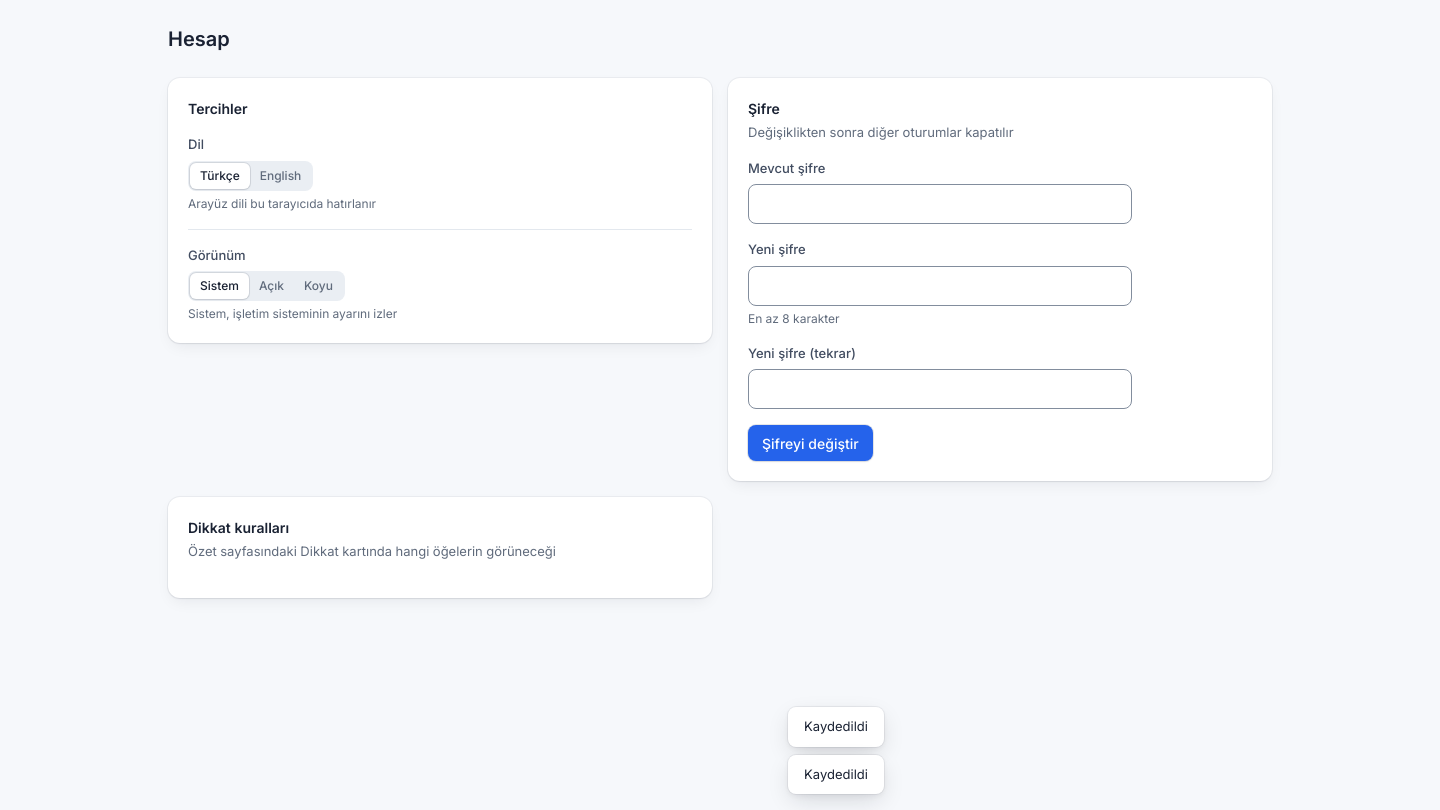
Test case: AccountPage › does not send the change when the two new passwords differ
Type "oldpassword" into the password field labelled "Mevcut şifre".
click(940, 204); type("oldpassword")  # box [748,184,1132,224]
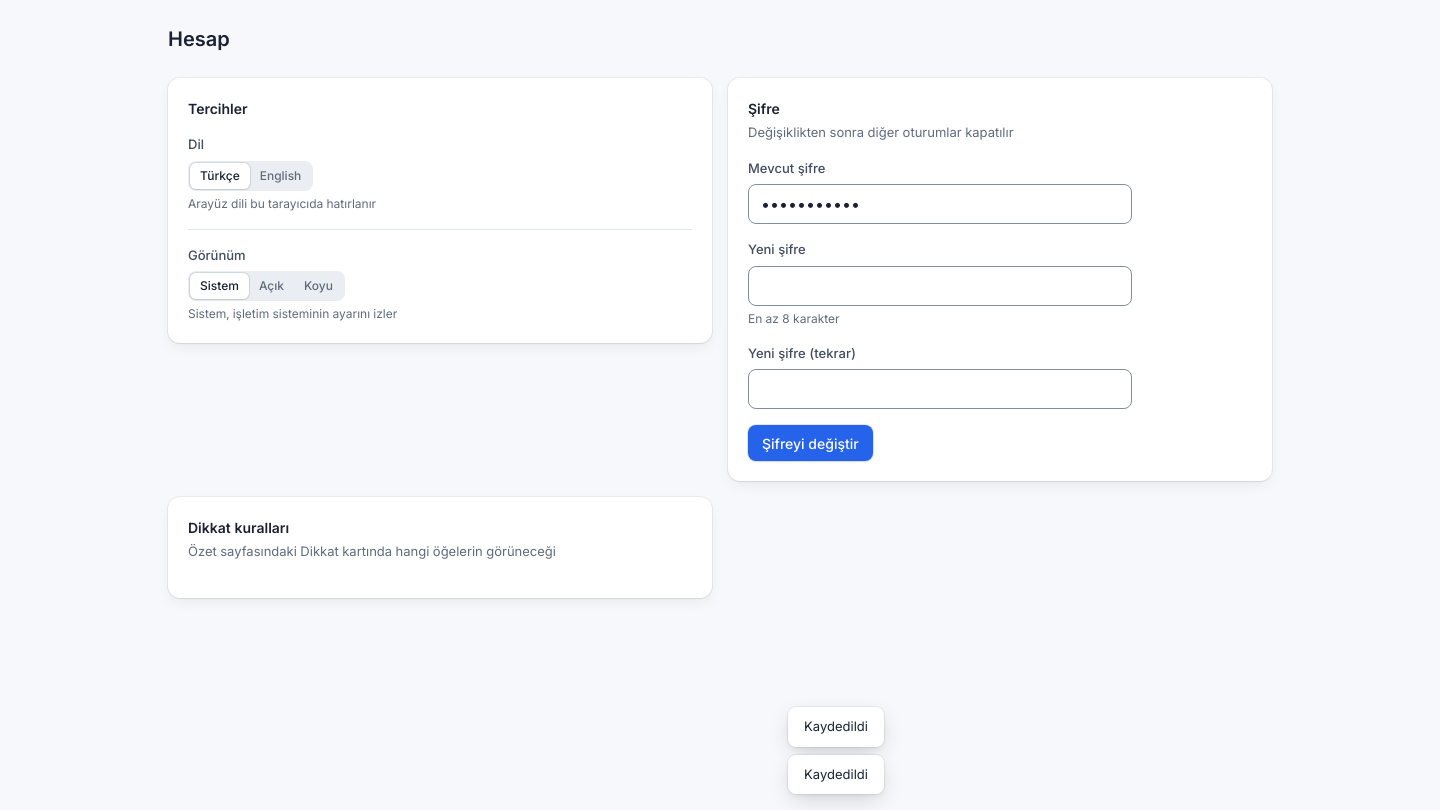
Type "newpassword" into the password field labelled "Yeni şifre".
click(940, 286); type("newpassword")  # box [748,266,1132,306]
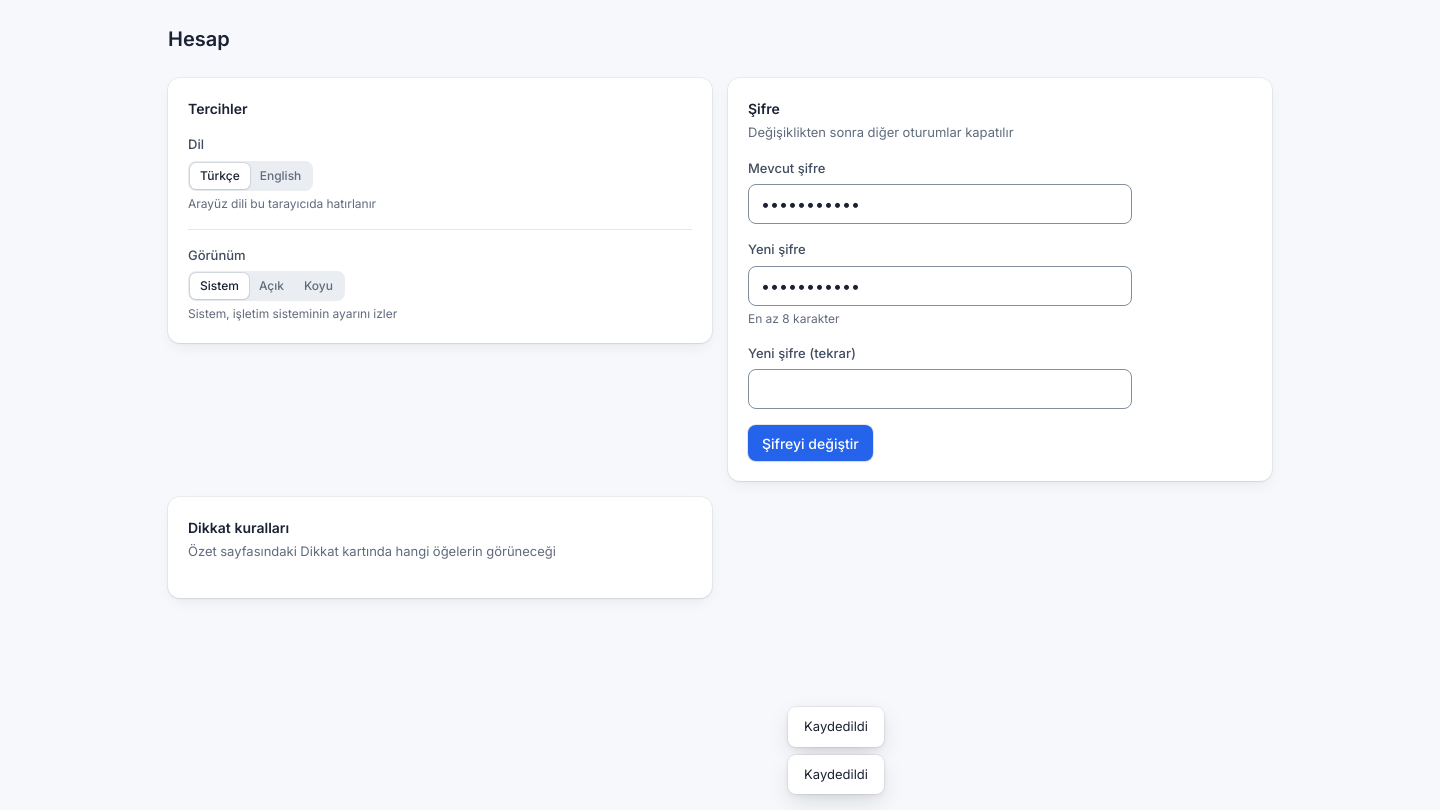
Type "newpasswrod" into the password field labelled "Yeni şifre (tekrar)".
click(940, 389); type("newpasswrod")  # box [748,369,1132,409]
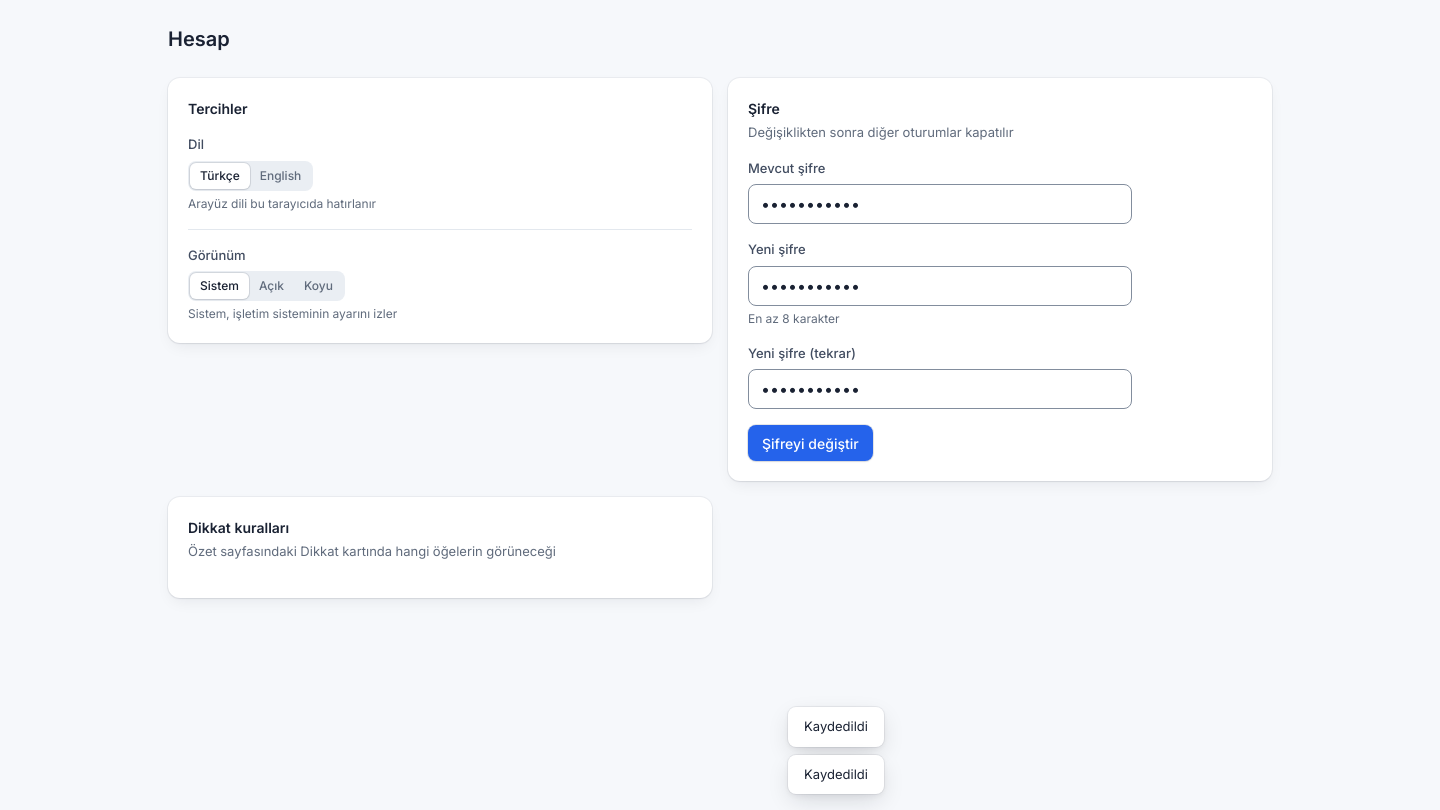
Click the button "Şifreyi değiştir".
click(810, 443)  # box [748,425,873,461]
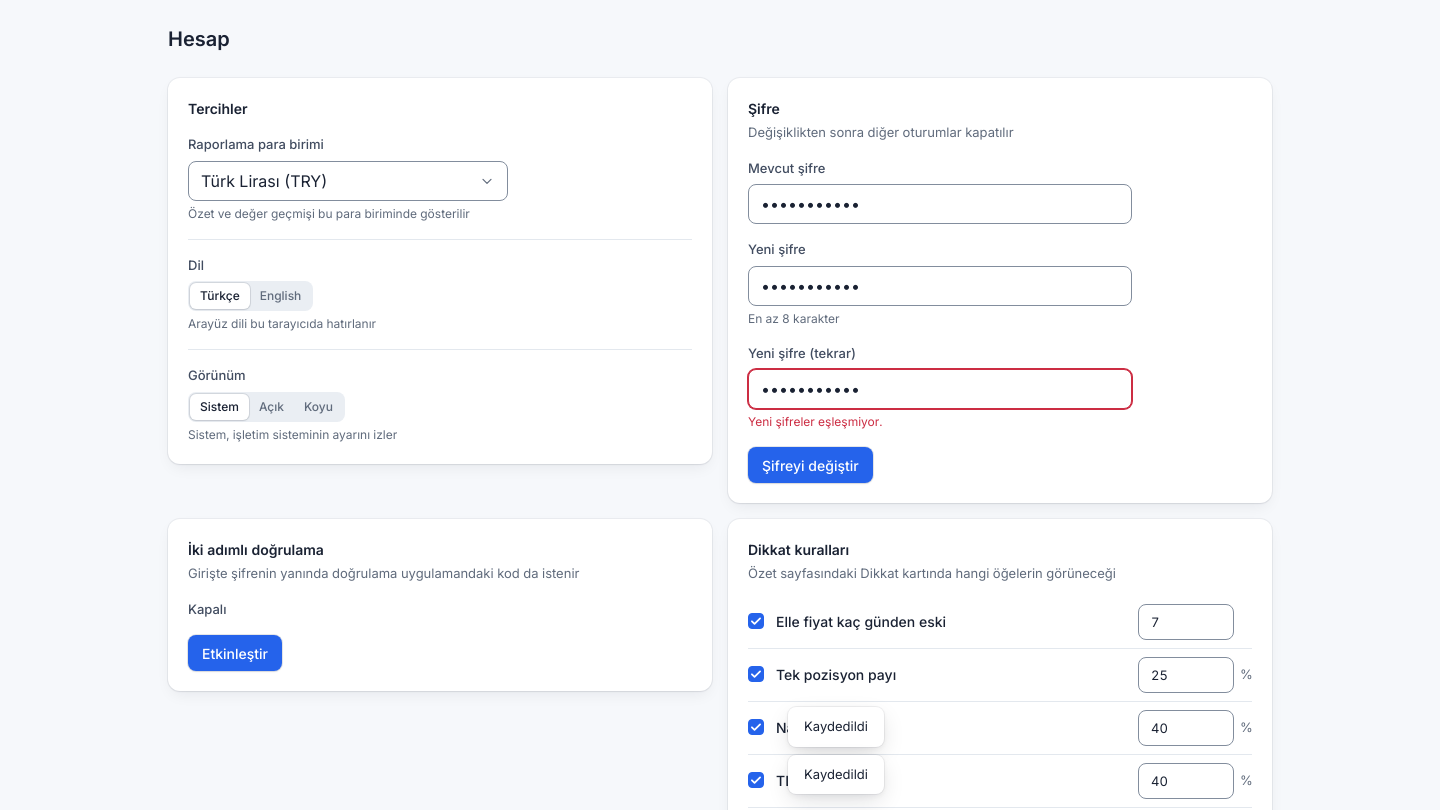
Expected: the text "Yeni şifreler eşleşmiyor." is shown, [748,414,882,429]
